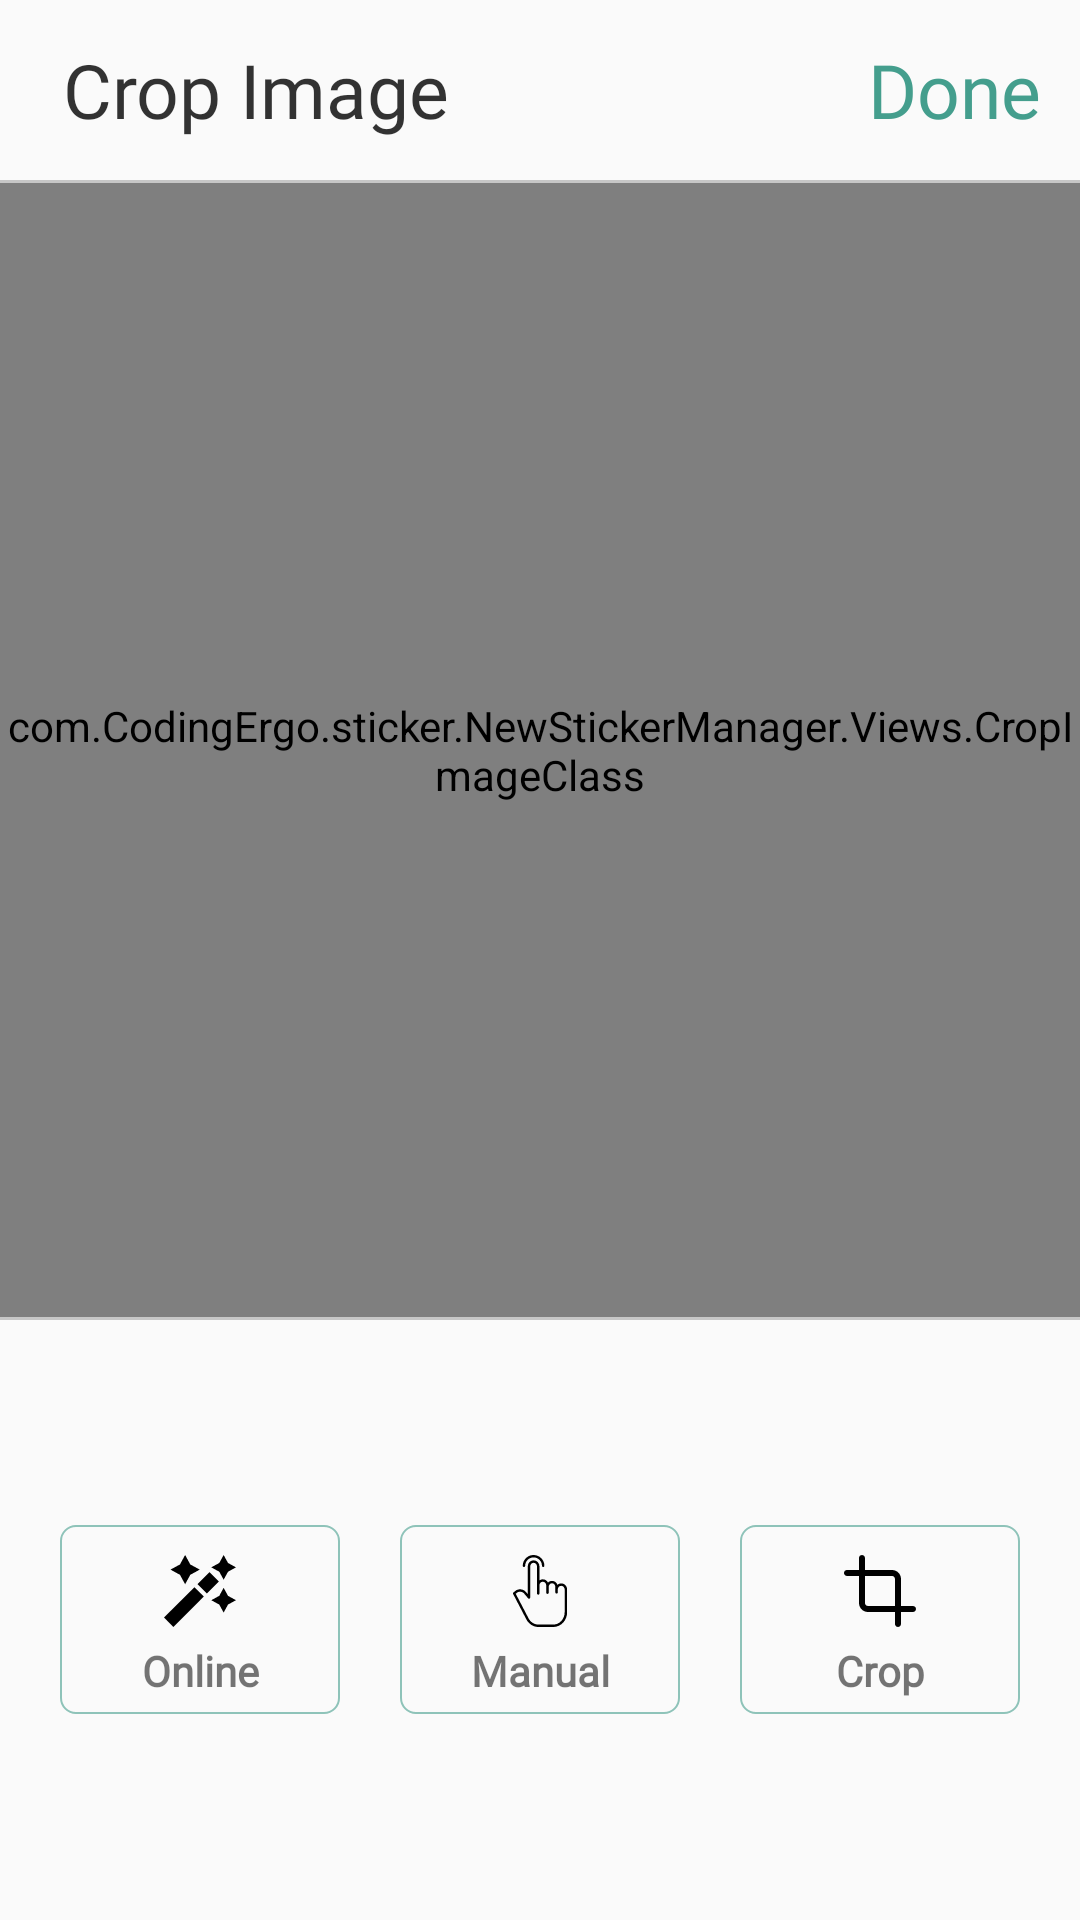

Screen size 1080w x 1920h. Icon name, then its box in pixels as bbox(x1, y1, x2, y2):
magic wand: bbox(164, 1555, 236, 1627)
